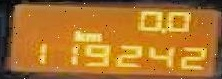-: (157, 27, 164, 33)
0: (164, 11, 191, 31), (133, 9, 159, 29)
1: (33, 40, 48, 64), (66, 42, 77, 67)
2: (113, 43, 142, 67), (177, 44, 206, 68)
4: (146, 43, 173, 67)
9: (82, 42, 108, 66)
X: (71, 27, 84, 41), (84, 32, 102, 39)
